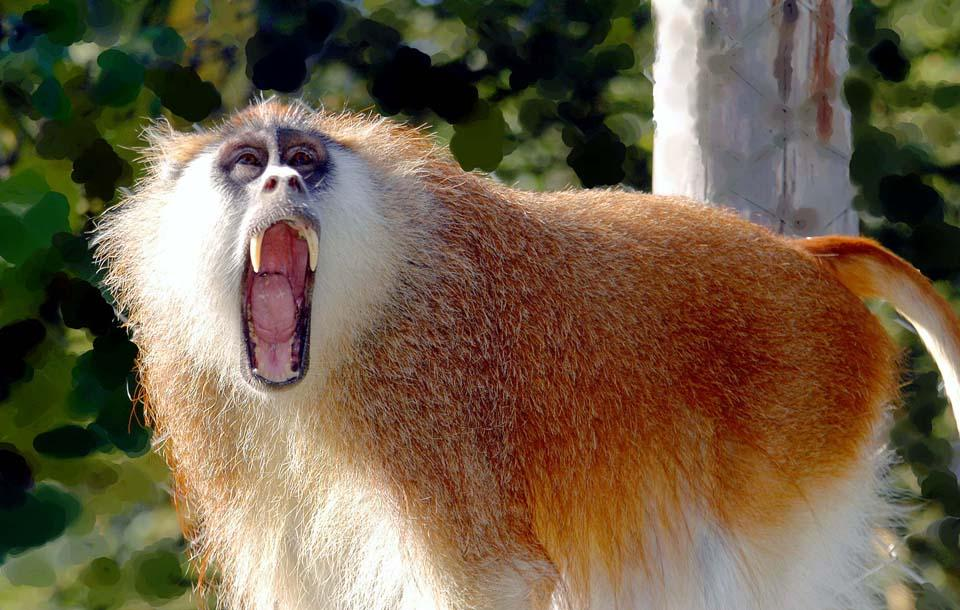monkey: (77, 96, 912, 610)
